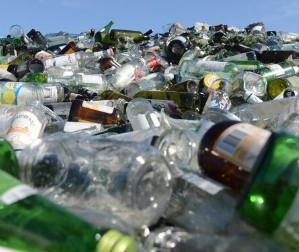glass: (148, 119, 298, 245), (20, 131, 169, 226), (0, 184, 109, 252), (197, 119, 274, 193), (157, 170, 237, 235), (15, 134, 96, 191), (152, 114, 234, 168), (1, 99, 65, 140), (66, 99, 128, 126), (132, 89, 202, 111), (98, 125, 169, 145), (106, 58, 146, 91), (0, 81, 48, 106), (158, 107, 204, 132), (126, 98, 161, 130), (228, 72, 264, 103), (270, 95, 298, 133), (191, 68, 242, 88), (260, 72, 297, 99), (127, 56, 164, 82), (200, 82, 232, 112), (65, 73, 109, 94), (252, 62, 298, 81), (231, 102, 268, 123), (42, 52, 85, 70), (135, 72, 172, 92), (189, 59, 238, 73), (201, 107, 239, 125), (108, 29, 153, 44), (115, 45, 148, 65), (166, 38, 190, 64), (254, 50, 297, 64), (179, 59, 209, 79), (8, 47, 45, 63), (38, 82, 66, 102), (217, 50, 260, 63), (94, 98, 128, 114), (0, 106, 18, 135), (221, 59, 261, 72), (264, 39, 299, 53), (146, 53, 169, 72), (168, 79, 199, 93), (97, 56, 122, 73), (222, 43, 257, 55), (179, 48, 201, 67), (98, 90, 132, 102), (72, 50, 97, 66), (97, 29, 120, 46), (45, 33, 74, 46), (28, 29, 48, 47), (75, 33, 95, 50), (45, 66, 72, 78), (21, 71, 48, 83), (92, 47, 116, 60), (83, 57, 105, 71), (0, 49, 20, 64), (58, 41, 81, 54), (276, 31, 299, 43), (45, 43, 70, 54), (162, 22, 184, 34), (116, 36, 133, 51), (244, 22, 265, 34), (9, 24, 25, 39), (250, 42, 270, 53), (249, 30, 267, 41), (6, 36, 24, 47), (48, 31, 72, 37), (208, 24, 227, 31)
